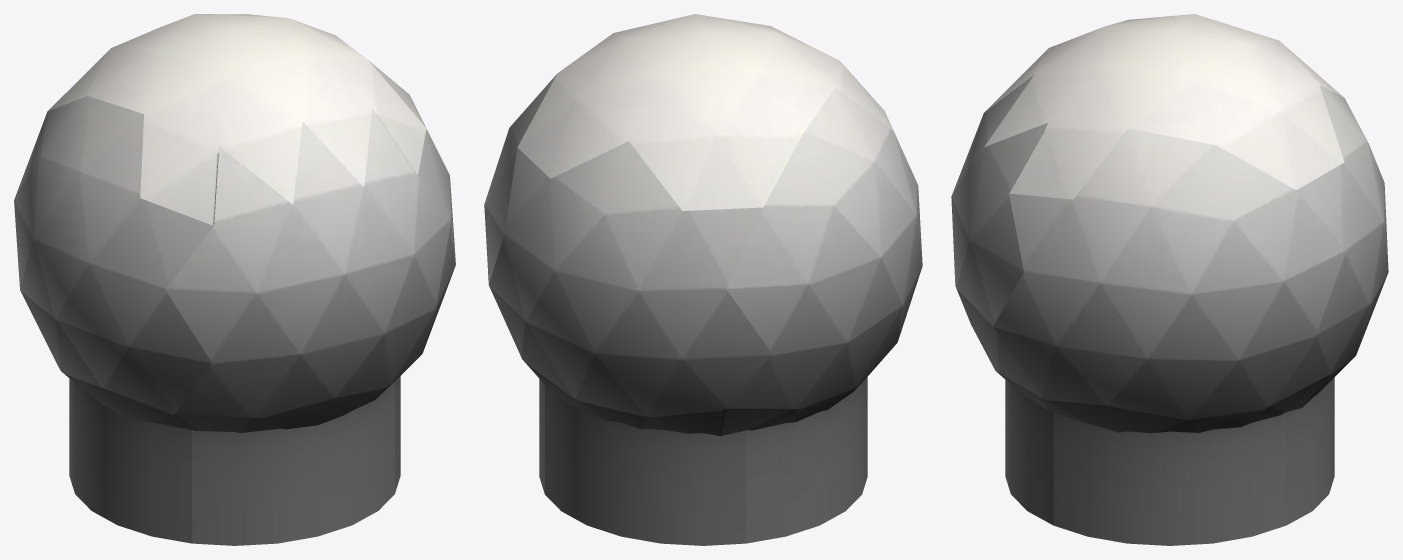
The model's file is radome.glb.
The picture shows the model from 3 angles, left to right: view 1: azimuth 30°, elevation 25°; view 2: azimuth 150°, elevation 25°; view 3: azimuth 270°, elevation 25°; orthographic projection.
Parts seen in each view (by area): view 1: guam.layer; view 2: guam.layer; view 3: guam.layer.
Part boxes in pixels (x1,y1,x2,y2): guam.layer: (14, 14, 455, 545); guam.layer: (484, 14, 922, 545); guam.layer: (951, 14, 1388, 545).
Bounding box in the file's own units: 19.66 × 22 × 19.64.
Materials: 1 (1 with a texture image).
